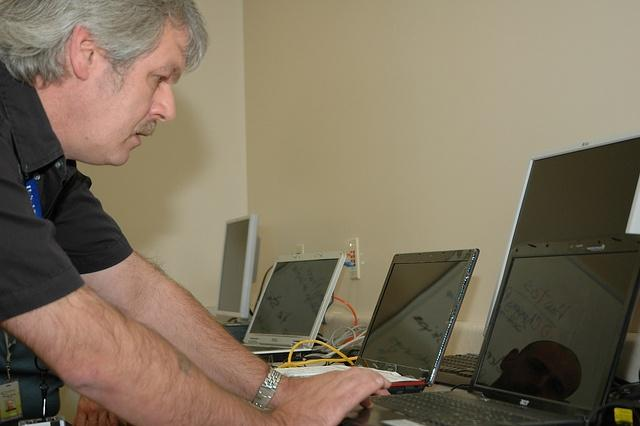AIO PC-Monitor-TV: (507, 124, 639, 246), (214, 213, 257, 318)
